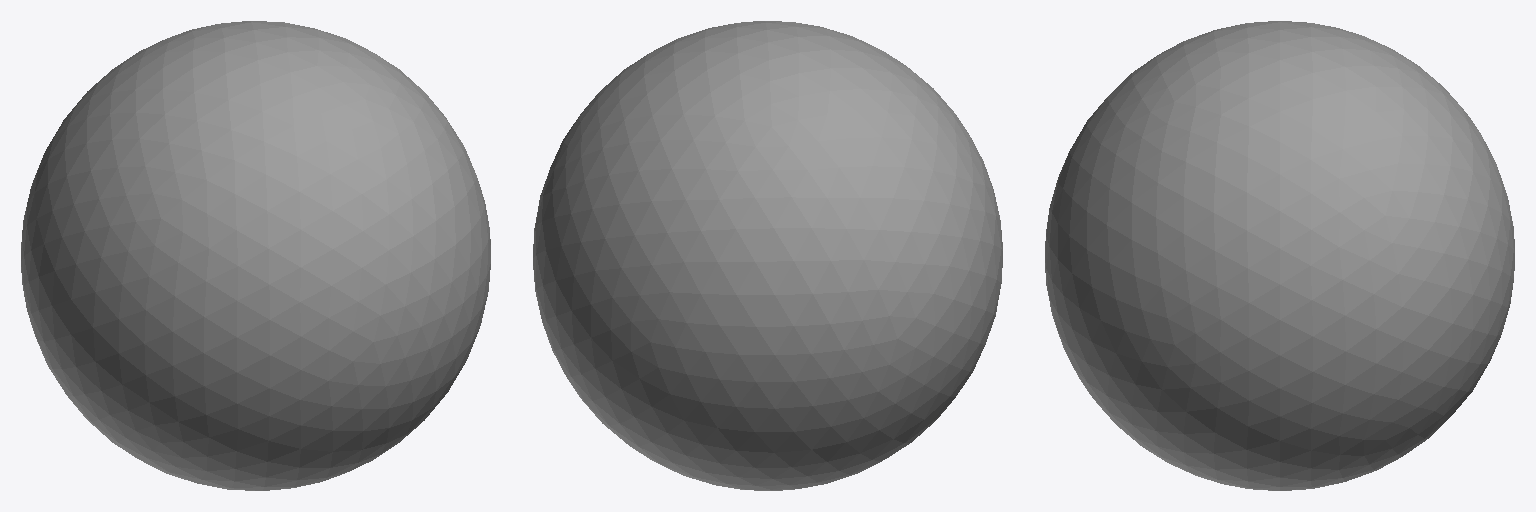
File: ico.obj
3 views of the same model, side by side, from view 1: azimuth 30°, elevation 25°; view 2: azimuth 150°, elevation 25°; view 3: azimuth 270°, elevation 25° (orthographic).
Visible parts, largest first — view 1: Icosphere_Icosphere.002; view 2: Icosphere_Icosphere.002; view 3: Icosphere_Icosphere.002.
Boxes of the visible parts, box(x1,y1,x2,y2) form: Icosphere_Icosphere.002: box(21, 21, 490, 490); Icosphere_Icosphere.002: box(533, 21, 1002, 490); Icosphere_Icosphere.002: box(1045, 21, 1514, 490).
Size of the model in its own units: 2 by 2 by 2.